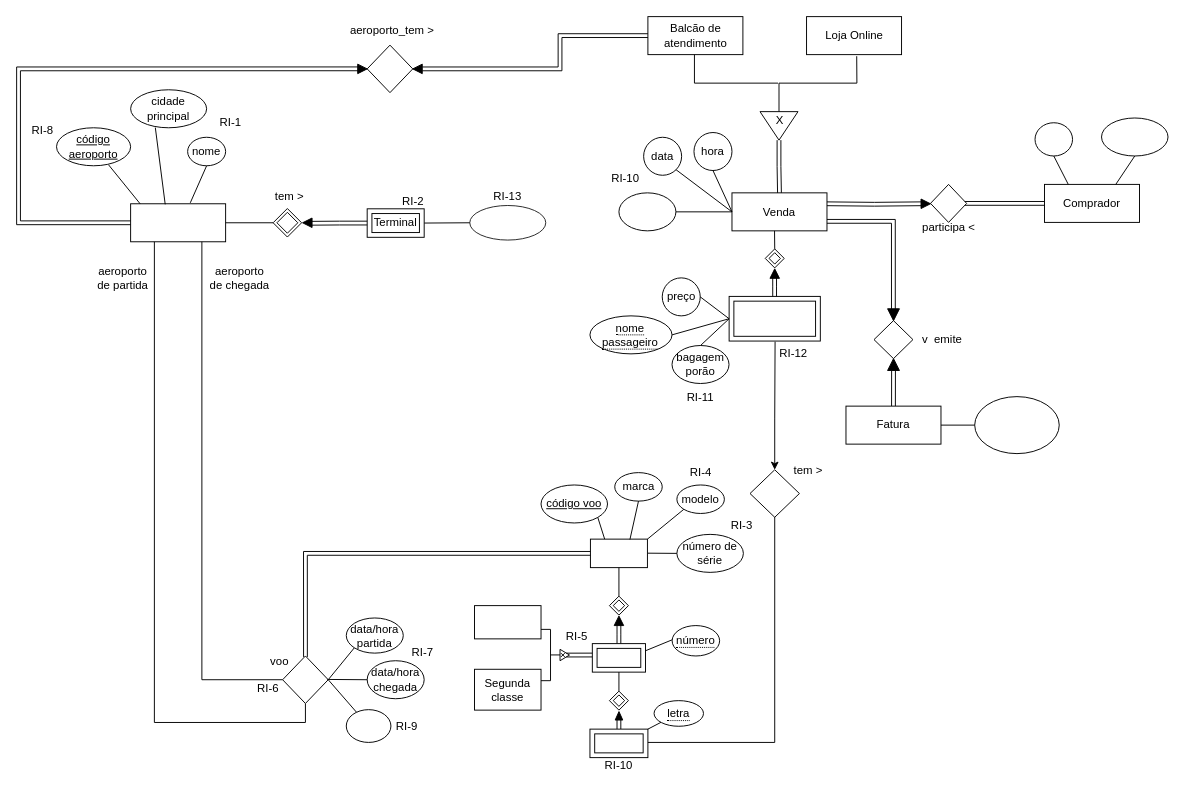
This 1185x789 diagram has some shape labels left out. Each missing label, with the centre of its shape:
Aeroporto international: point 178,222
Assento: point 618,743
Avião: point 618,553
Bilhete: point 774,318
código fatura: point 1016,425
código terminal: point 507,222
código venda: point 647,211
duração: point 368,725
Fila: point 618,657
NIF: point 1053,139
nome completo: point 1134,136
Primeira Classe: point 507,622
